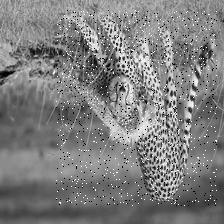Cheetha: (55, 10, 216, 206)
